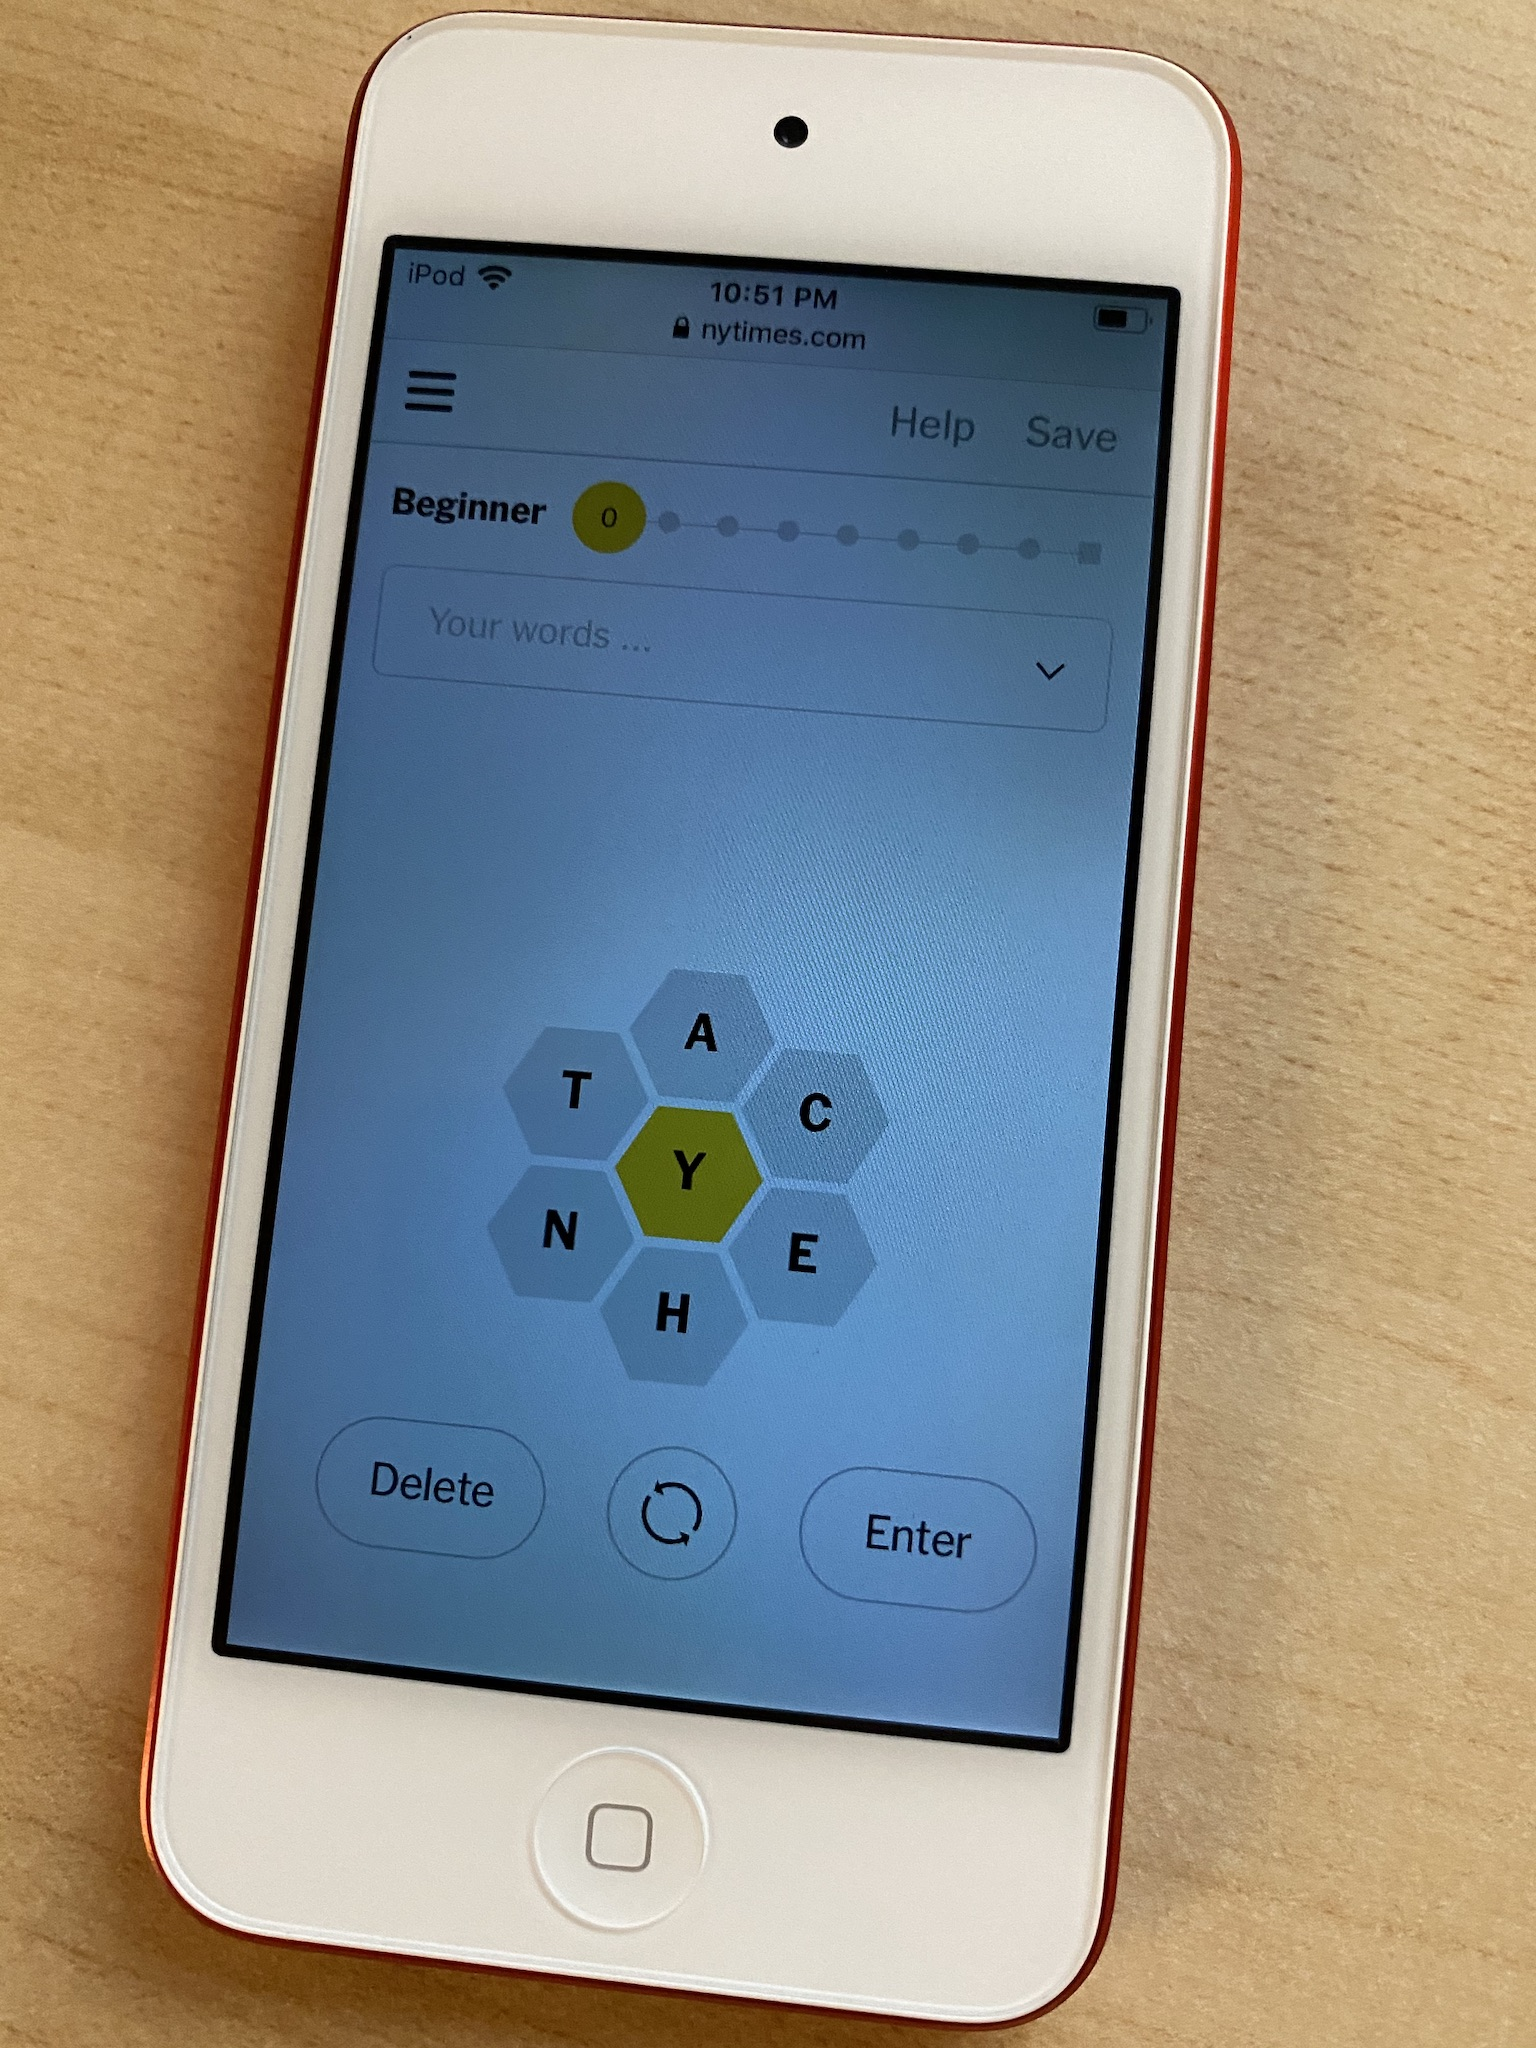Board: (410, 919, 942, 1447)
